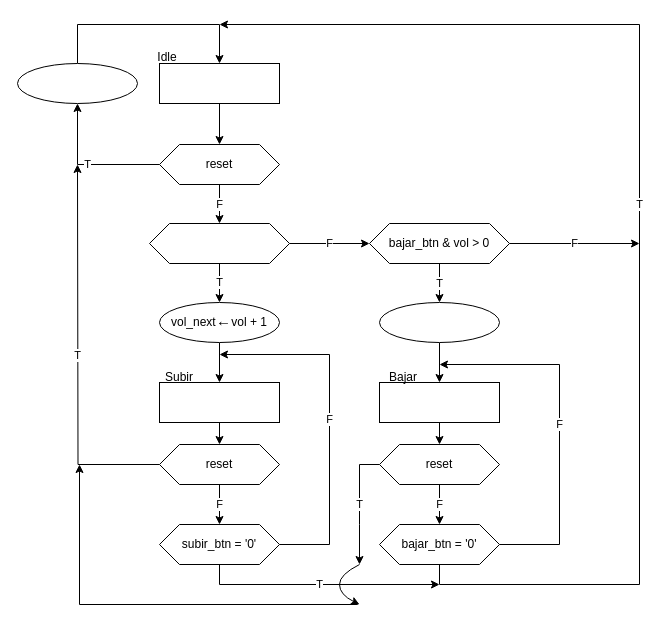
The diagram is 665 pixels wide and 630 high, and some of its shapes have lost their labels. The centre of each missing label's shape, as x and y in pixels:
subir_btn & vol < 20: point 219,243
vol <= "01010": point 77,83
vol_next ← vol - 1: point 439,322
